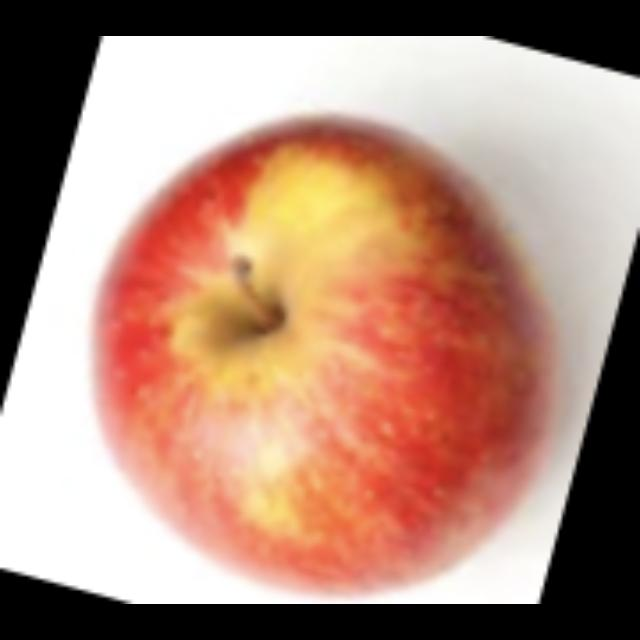Apel Segar: (94, 84, 584, 592)
